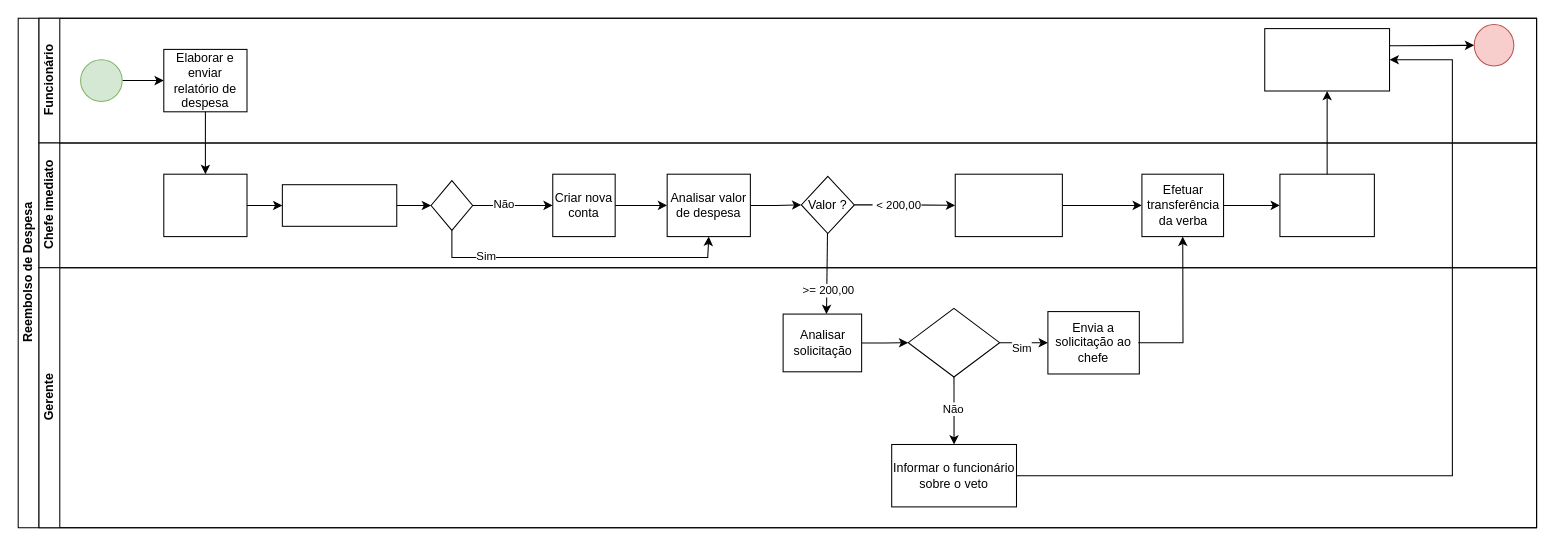
This 1555x546 diagram has some shape labels left out. The centre of each missing label's shape, as x and y in pixels:
"Aprovada ?" belongs at point (953, 342).
"Aprovado automaticamente" belongs at point (1008, 205).
"Identifica o funcionário" belongs at point (205, 205).
"Informa atendimento a solicitação" belongs at point (1326, 205).
"Possui conta despesa?" belongs at point (339, 205).
"Recebe a informação a respeito do reembolso (positiva ou negativa)" belongs at point (1327, 59).
